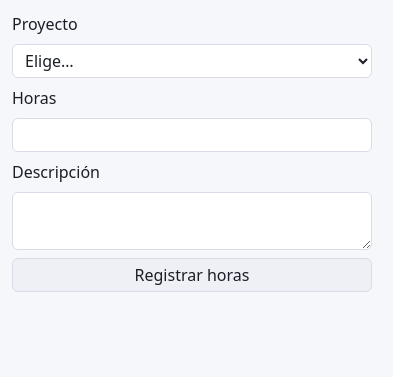
Test case: TimeEntryForm › shows accessible validation errors and does not submit
The image size is (393, 377).
Click the button "Registrar horas" at (192, 275), box top-left (12, 258), bottom-right (372, 292)
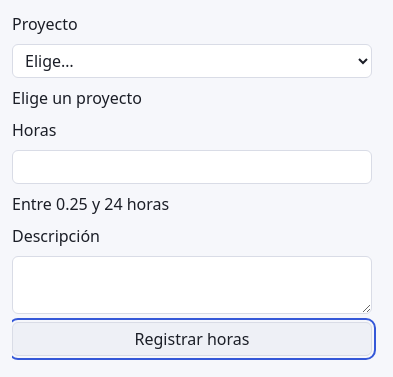
Now the text "Elige un proyecto" is shown, box top-left (12, 87), bottom-right (142, 109)
